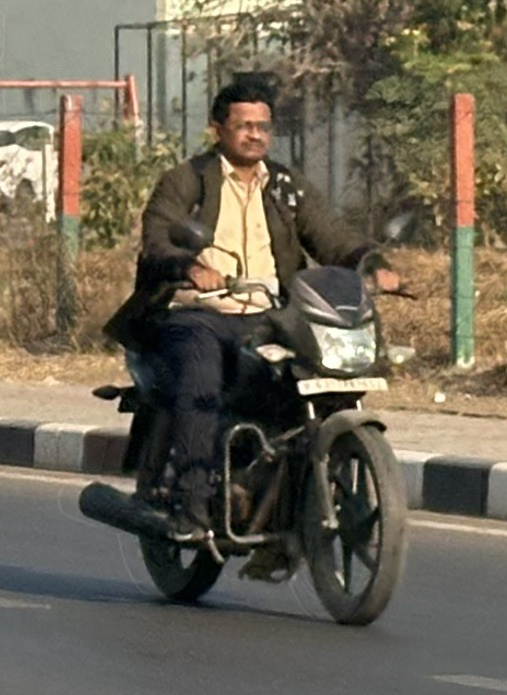BikeWithRider: (76, 81, 417, 626)
NoHelmet: (211, 83, 278, 162)
